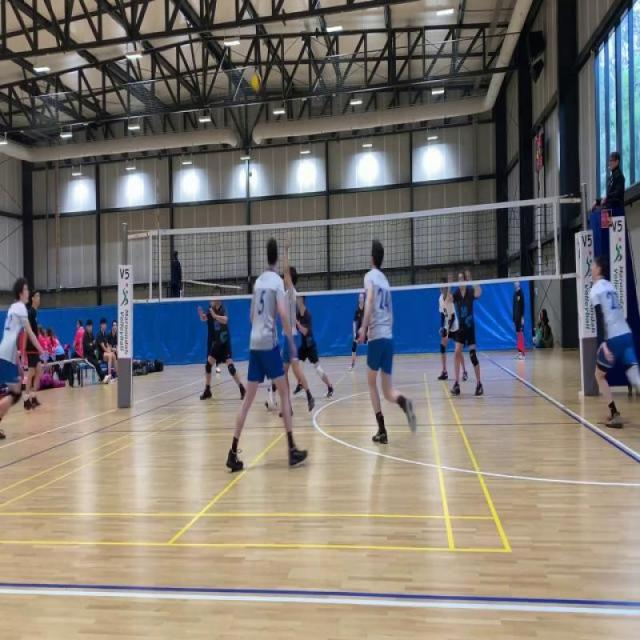volleyball: (250, 70, 263, 94), (248, 170, 252, 178)
